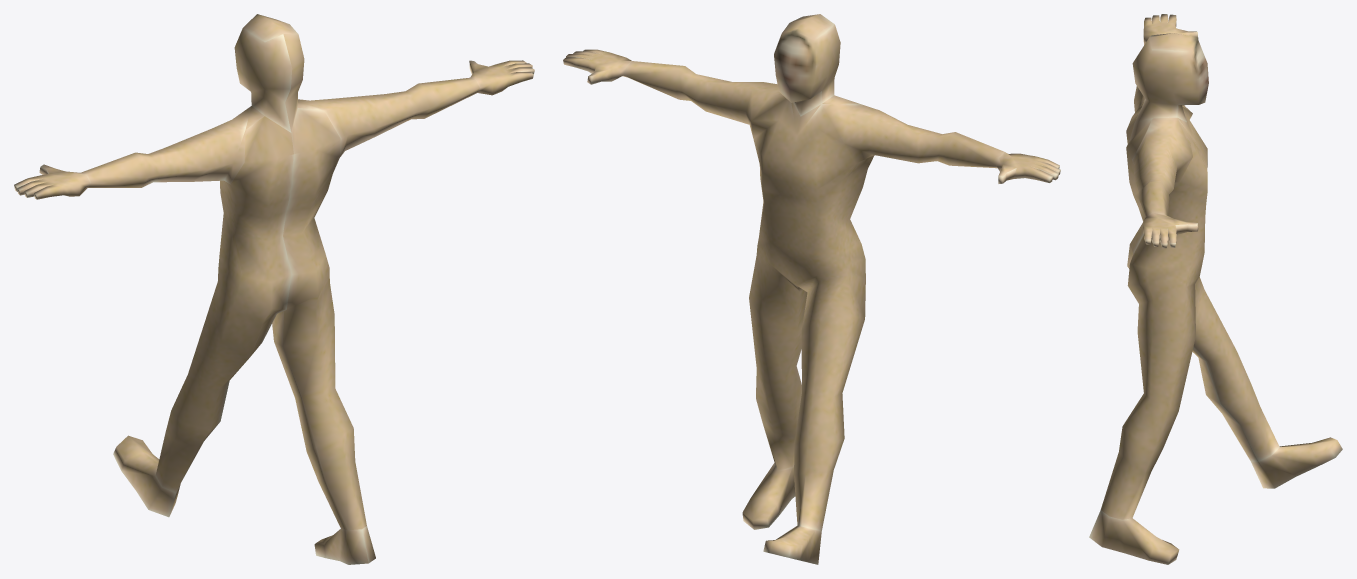
The model's file is human_000007.obj.
3 views of the same model, side by side, from view 1: azimuth 30°, elevation 25°; view 2: azimuth 150°, elevation 25°; view 3: azimuth 270°, elevation 25° (orthographic). The views are drawn at different scales.
Bounding box in the file's own units: 1.87 × 1.91 × 0.8742.
